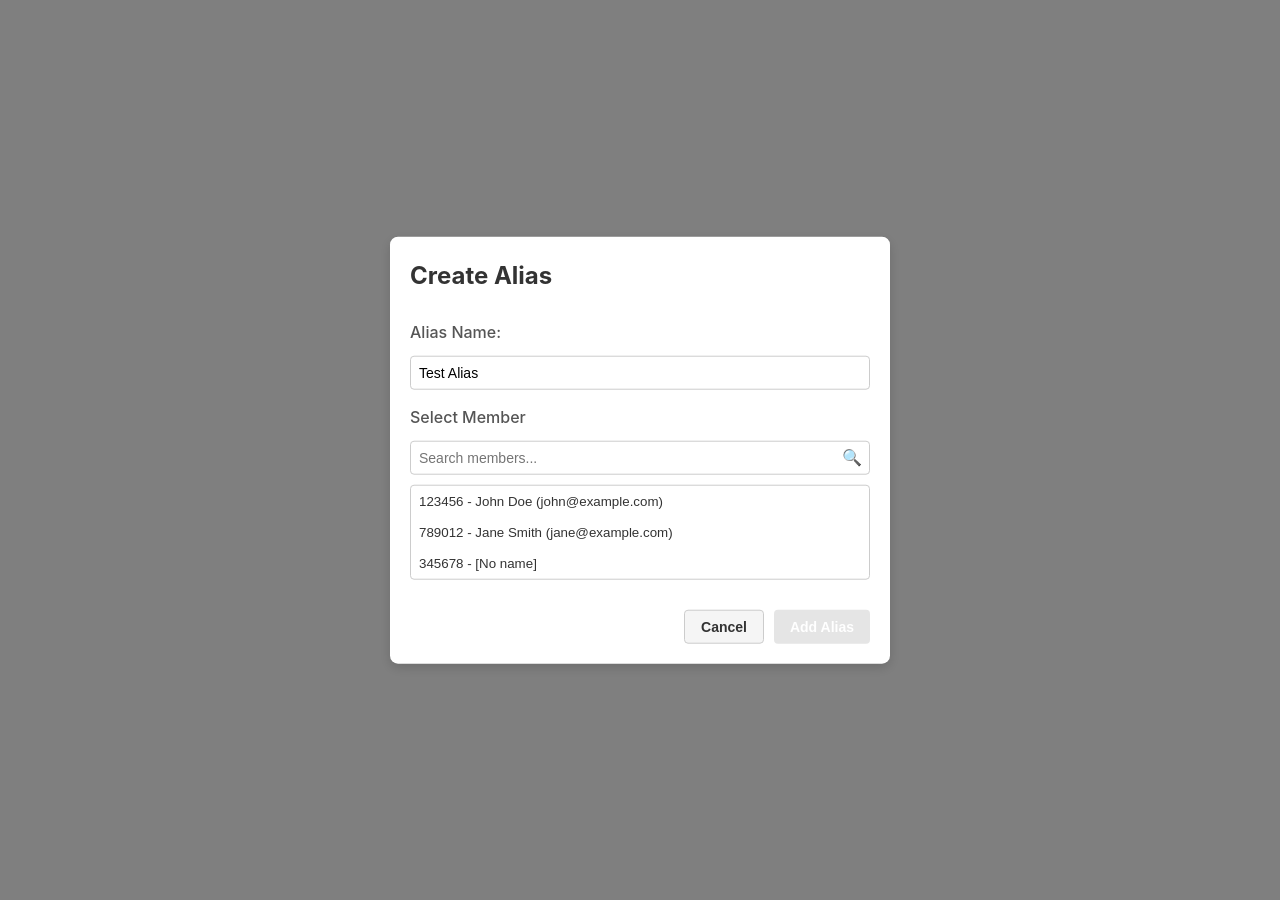
Scenario: AliasModal › enables create button when both member and alias name are provided
The width and height of the screenshot is (1280, 900).
// Select a member
Click the button "123456 - John Doe (john@example.com)". click: (640, 501)
box: left=411, top=485, right=869, bottom=516
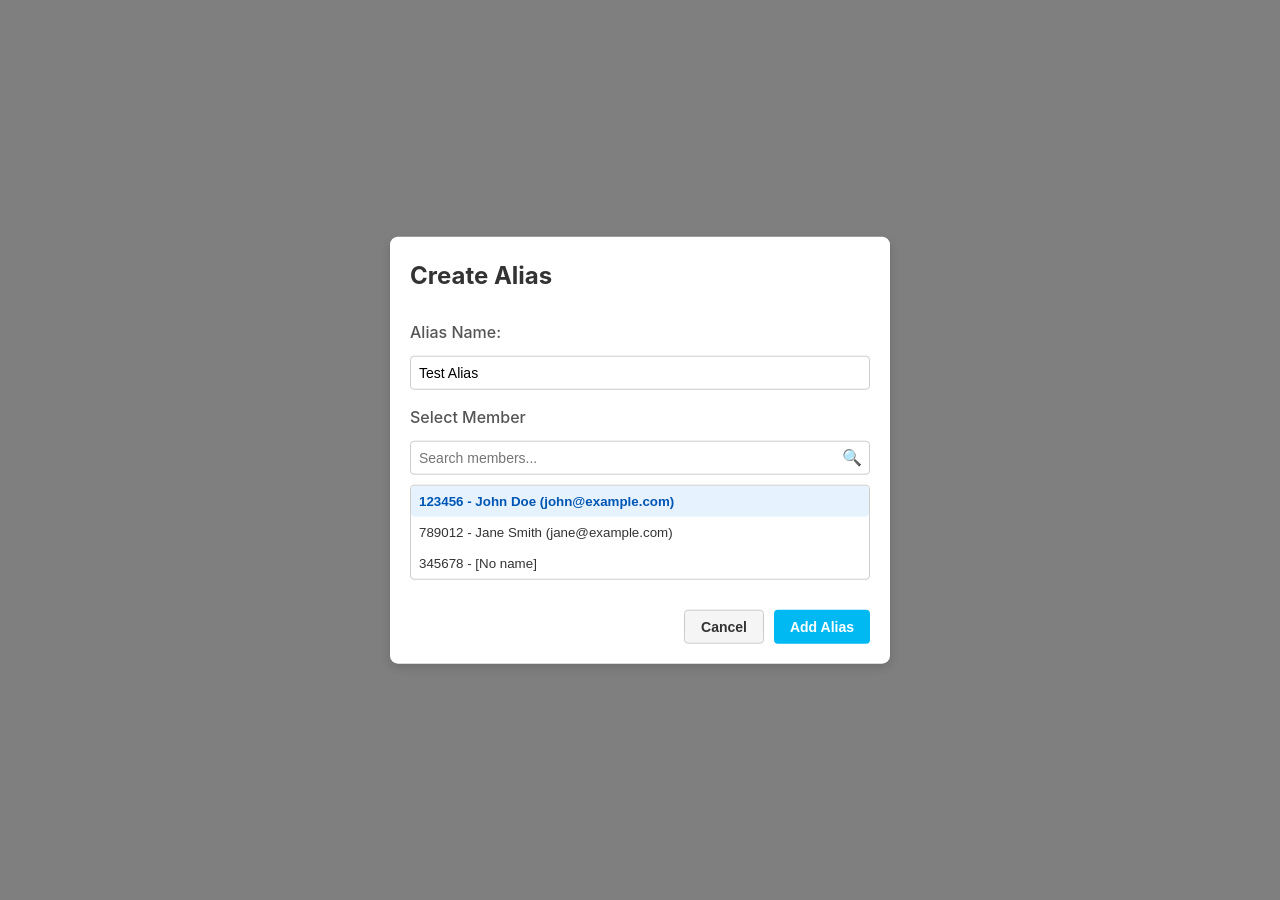
Check: the button "Add Alias" is enabled, box left=774, top=609, right=870, bottom=643
